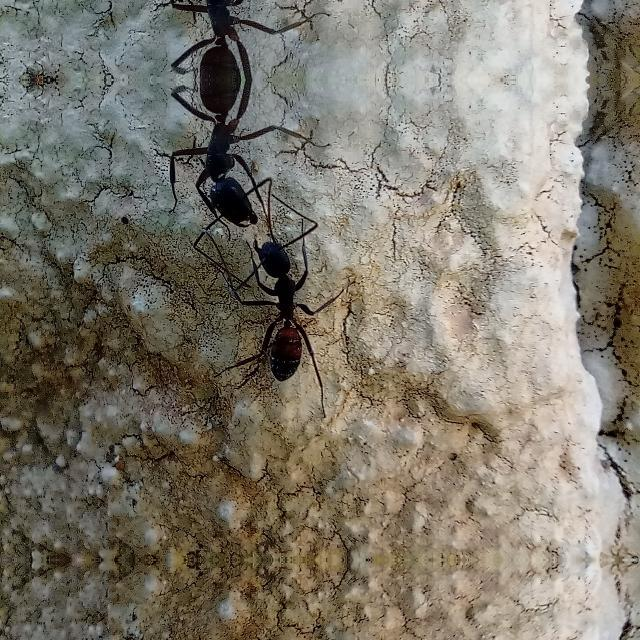Camponotus: (165, 82, 298, 238), (230, 225, 340, 388), (164, 0, 296, 78)
